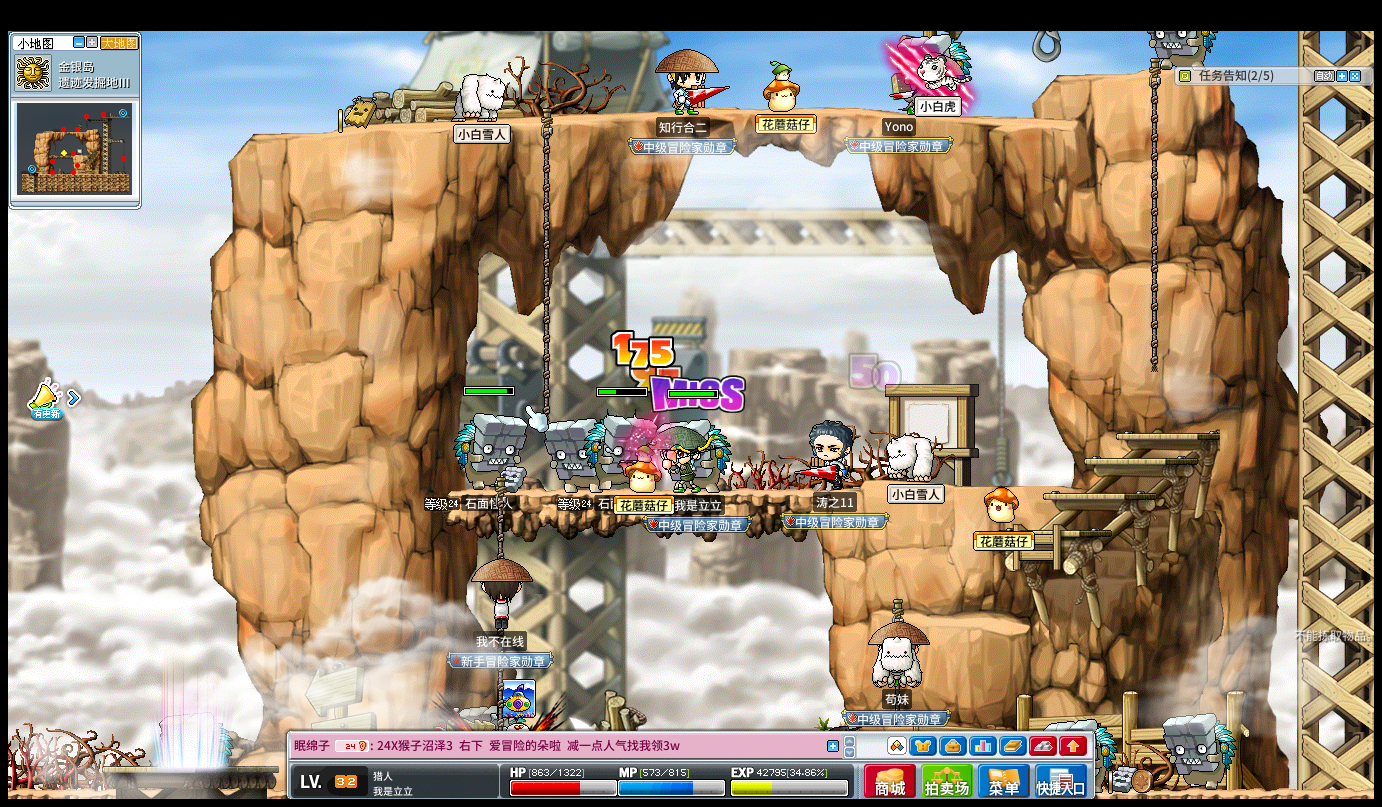floor: (231, 104, 1076, 140), (441, 487, 820, 499), (923, 612, 1028, 634), (1053, 68, 1168, 81), (938, 482, 1083, 492), (1115, 429, 1222, 442), (1077, 456, 1195, 465), (995, 528, 1109, 536), (1044, 492, 1157, 500)
monster: (452, 411, 525, 490), (1163, 713, 1235, 790), (585, 413, 639, 489), (544, 419, 592, 492), (583, 416, 623, 490)
rope: (1147, 54, 1161, 377), (539, 105, 550, 441), (492, 485, 506, 560)
